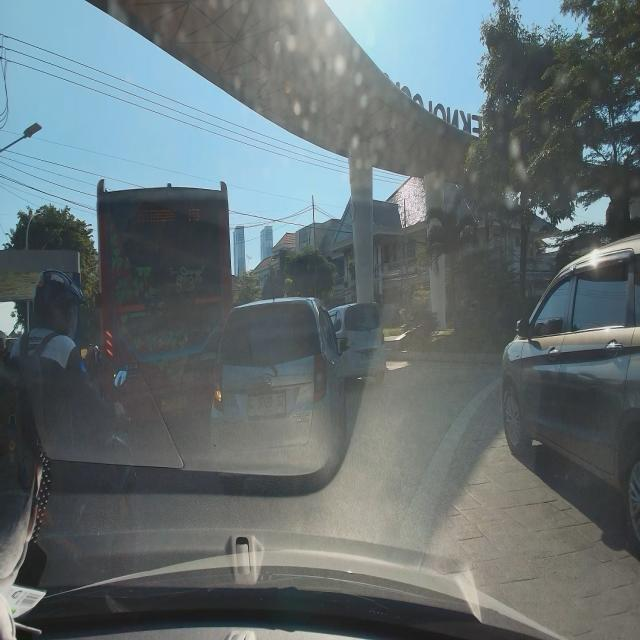bus: (93, 171, 236, 444)
car: (494, 226, 640, 539), (209, 293, 346, 484), (328, 297, 388, 386)
license-plate: (247, 394, 286, 417)
